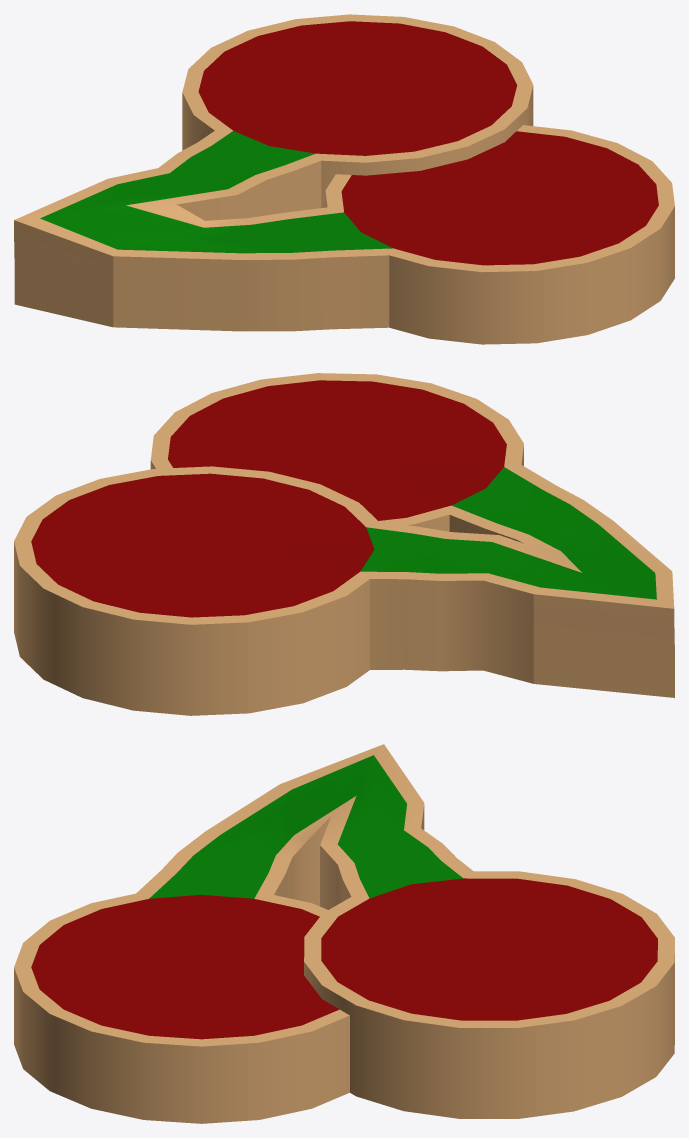
File: cherry.fbx
The picture shows the model from 3 angles, top to bottom: view 1: azimuth 30°, elevation 25°; view 2: azimuth 150°, elevation 25°; view 3: azimuth 270°, elevation 25°; orthographic projection. The views are drawn at different scales.
Parts seen in each view (by area): view 1: pCube4; view 2: pCube4; view 3: pCube4.
Part boxes in pixels (x1,y1,x2,y2): pCube4: (14,14,674,344); pCube4: (14,373,674,715); pCube4: (14,744,674,1123).
Bounding box in the file's own units: 4 × 0.5937 × 3.88.
